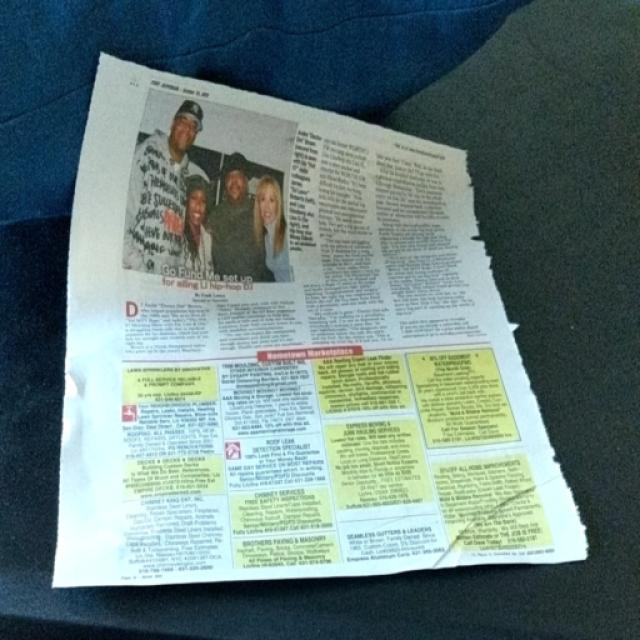document: (54, 54, 586, 586)
